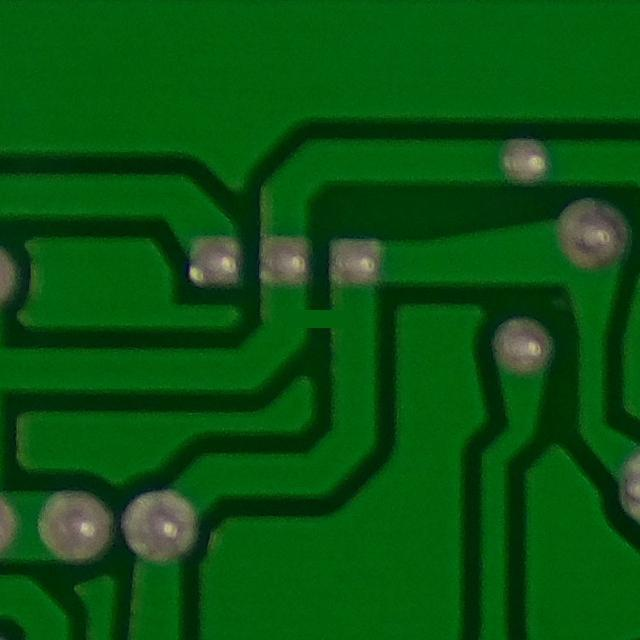short: (268, 283, 372, 357)
